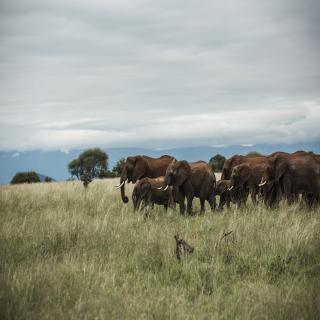Elephant: (115, 149, 182, 214), (158, 158, 222, 216), (260, 153, 320, 212), (227, 162, 275, 210), (130, 175, 176, 212)
